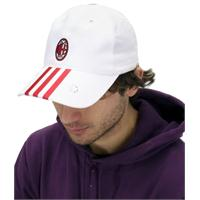hat: (16, 4, 139, 108)
